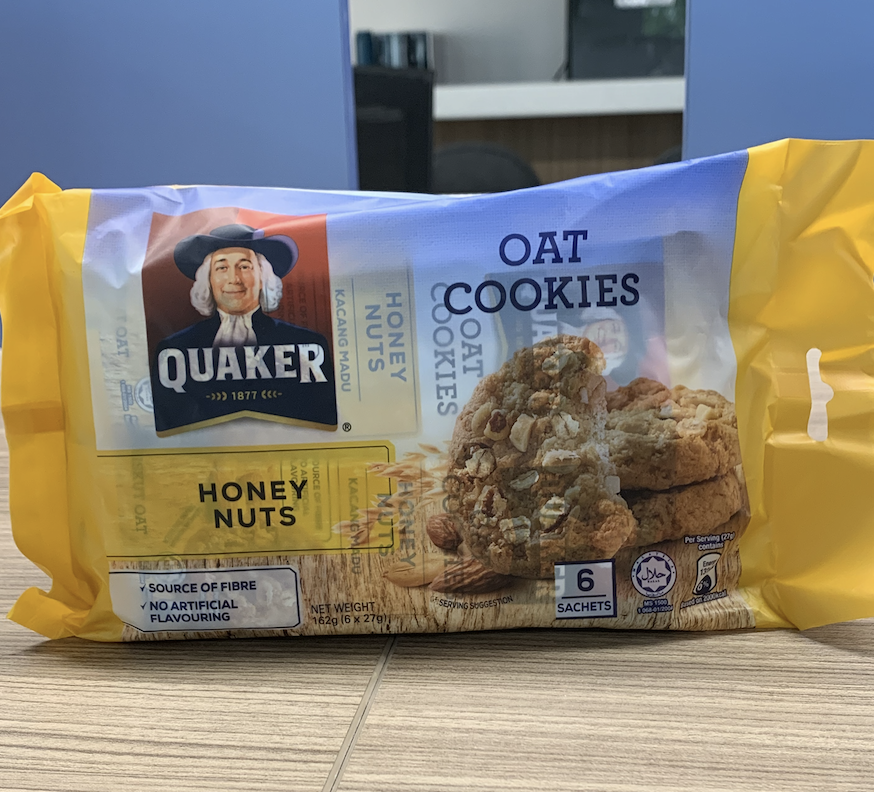cookies_100g-199g: (53, 210, 780, 622)
